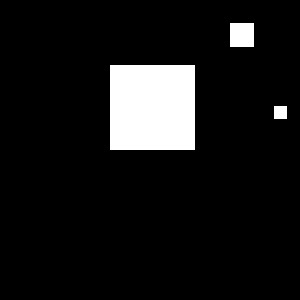circle: (110, 65, 195, 150), (230, 23, 254, 47), (274, 106, 287, 119)
